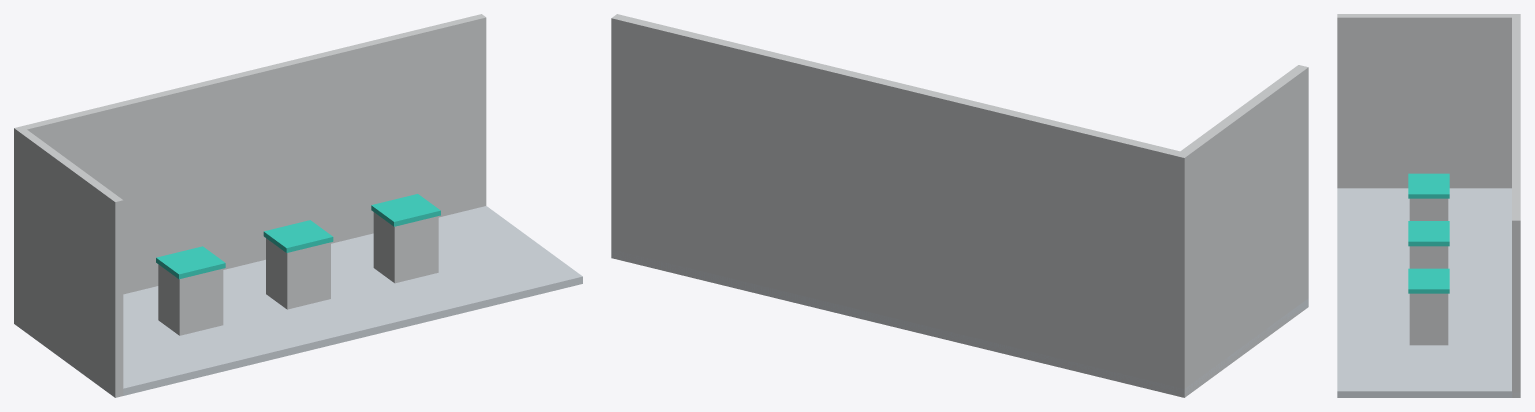
3 renders of one model, left to right at view 1: azimuth 30°, elevation 25°; view 2: azimuth 150°, elevation 25°; view 3: azimuth 270°, elevation 25°, orthographic. The views are drawn at different scales.
Visible parts, largest first — view 1: Exhibition Booth Concept; view 2: Exhibition Booth Concept; view 3: Exhibition Booth Concept.
Part boxes in pixels (left/top/right/bottom): Exhibition Booth Concept: left=14, top=14, right=582, bottom=397; Exhibition Booth Concept: left=611, top=14, right=1308, bottom=397; Exhibition Booth Concept: left=1337, top=14, right=1520, bottom=397.
Bounding box in the file's own units: 8 × 3.2 × 3.
